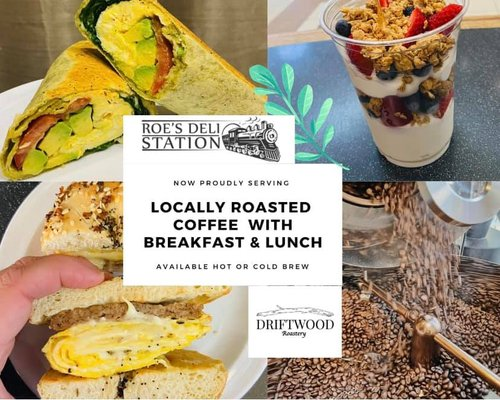soup: (1, 0, 268, 180), (0, 38, 138, 179), (30, 277, 230, 356), (39, 179, 124, 265)
